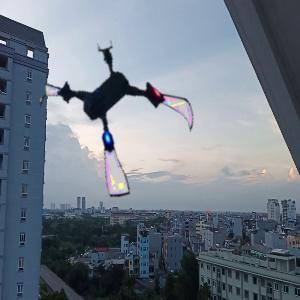drone: (43, 37, 203, 197)
